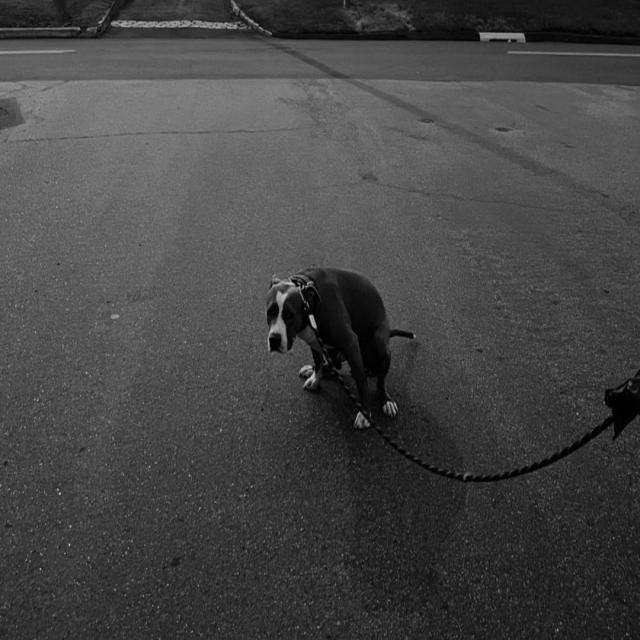squatting: (262, 259, 419, 438)
